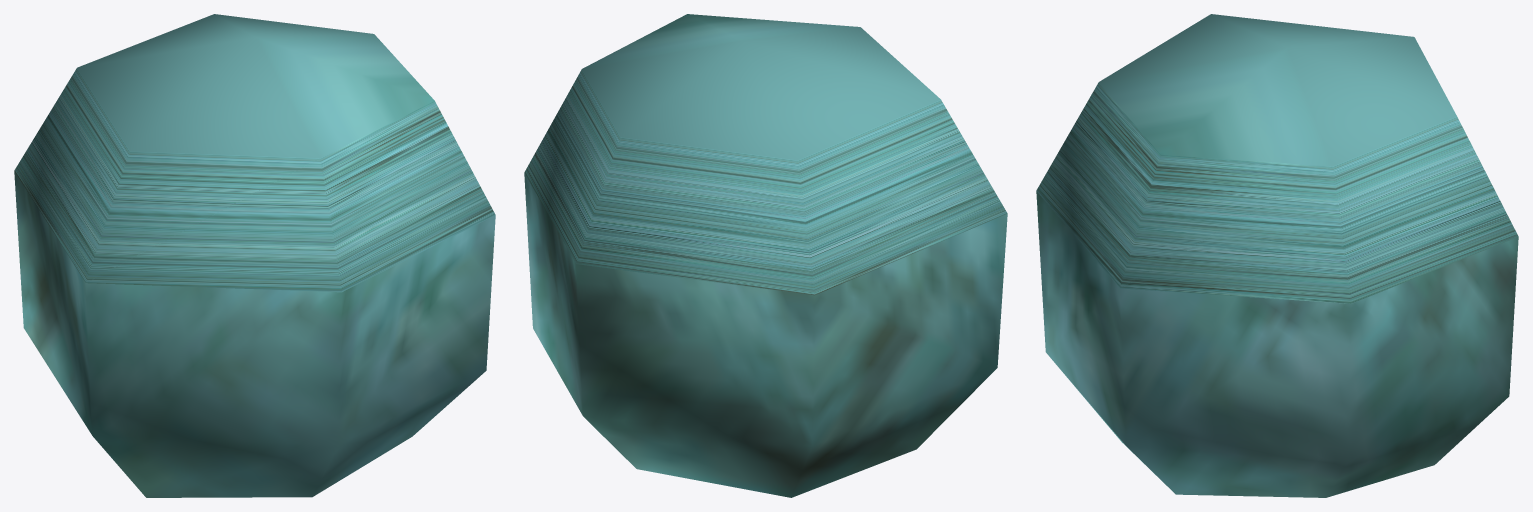
Rendered from EKH_GROTTO_PS_GR_ROCK1102928.fbx.
3 views of the same model, side by side, from view 1: azimuth 30°, elevation 25°; view 2: azimuth 150°, elevation 25°; view 3: azimuth 270°, elevation 25° (orthographic). The views are drawn at different scales.
Parts seen in each view (by area): view 1: EKH_GROTTO_PS_GR_ROCK1102928; view 2: EKH_GROTTO_PS_GR_ROCK1102928; view 3: EKH_GROTTO_PS_GR_ROCK1102928.
Boxes of the visible parts, x1,y1,x2,y2 form: EKH_GROTTO_PS_GR_ROCK1102928: (14, 14, 495, 497); EKH_GROTTO_PS_GR_ROCK1102928: (524, 14, 1007, 497); EKH_GROTTO_PS_GR_ROCK1102928: (1036, 14, 1518, 497).
Bounding box in the file's own units: 13271 × 12479 × 13203.
1 material, 1 textured.
